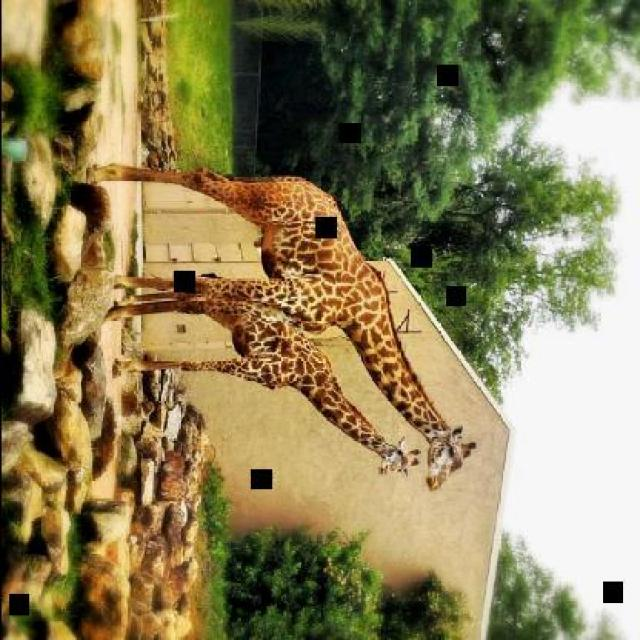unauthorized: (88, 160, 475, 491)
